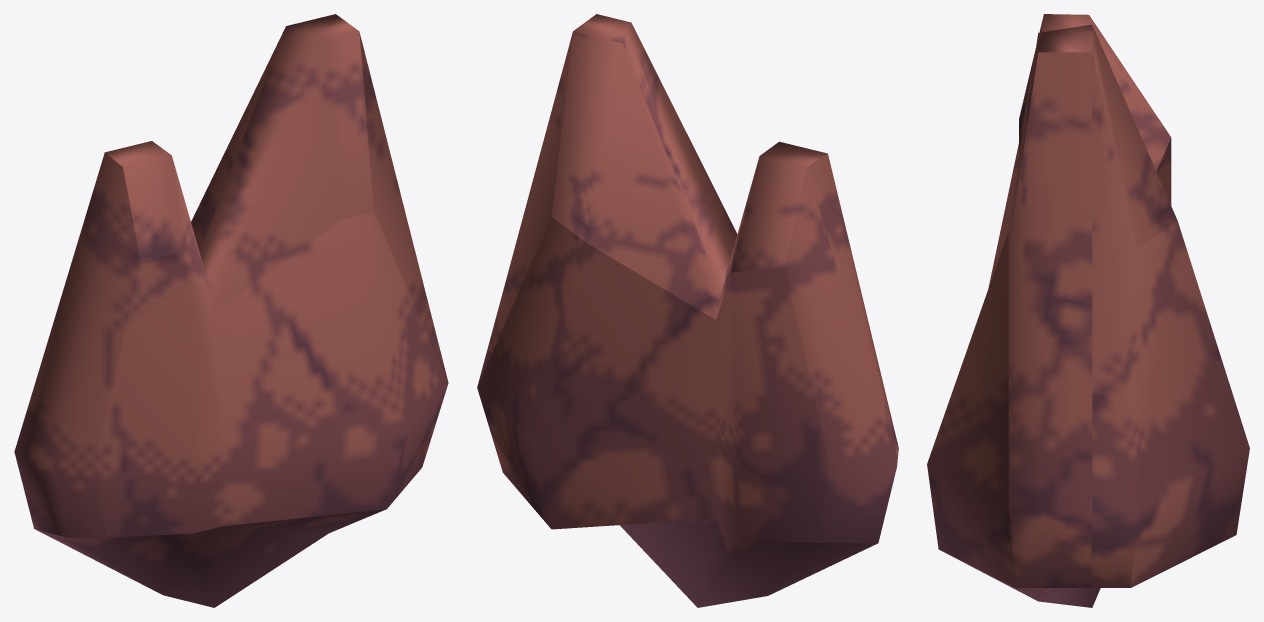
File: model_pillar_3.obj
The picture shows the model from 3 angles, left to right: view 1: azimuth 30°, elevation 25°; view 2: azimuth 150°, elevation 25°; view 3: azimuth 270°, elevation 25°; orthographic projection. The views are drawn at different scales.
Parts seen in each view (by area): view 1: obj_pillar_4; view 2: obj_pillar_4; view 3: obj_pillar_4.
Boxes of the visible parts, <box> form: obj_pillar_4: <box>14,14,448,607</box>; obj_pillar_4: <box>477,14,898,607</box>; obj_pillar_4: <box>927,14,1249,607</box>.
Bounding box in the file's own units: 12.17 × 15.93 × 7.46.
1 material, 1 textured.
